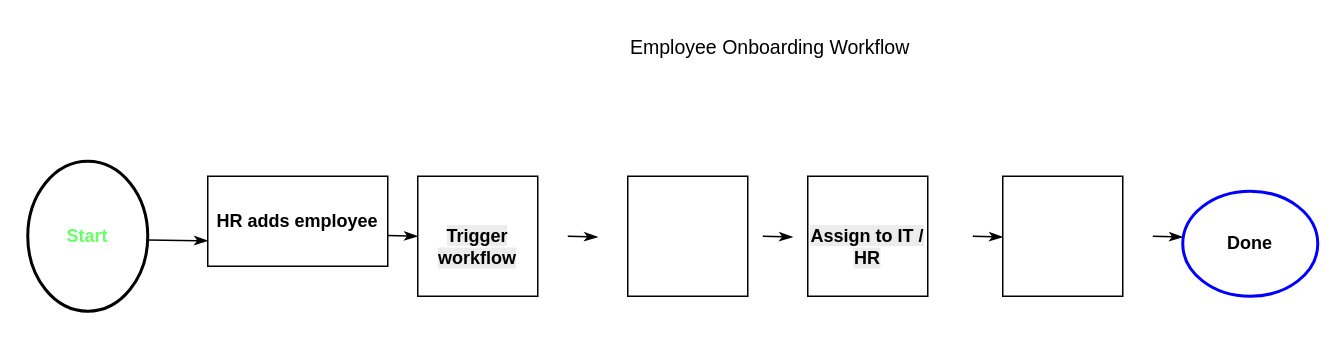
The diagram is 1344 pixels wide and 338 high, and some of its shapes have lost their labels. Each missing label, with the centre of its shape:
Create tasks: the point at 687,235
Send email notifications: the point at 1062,235
